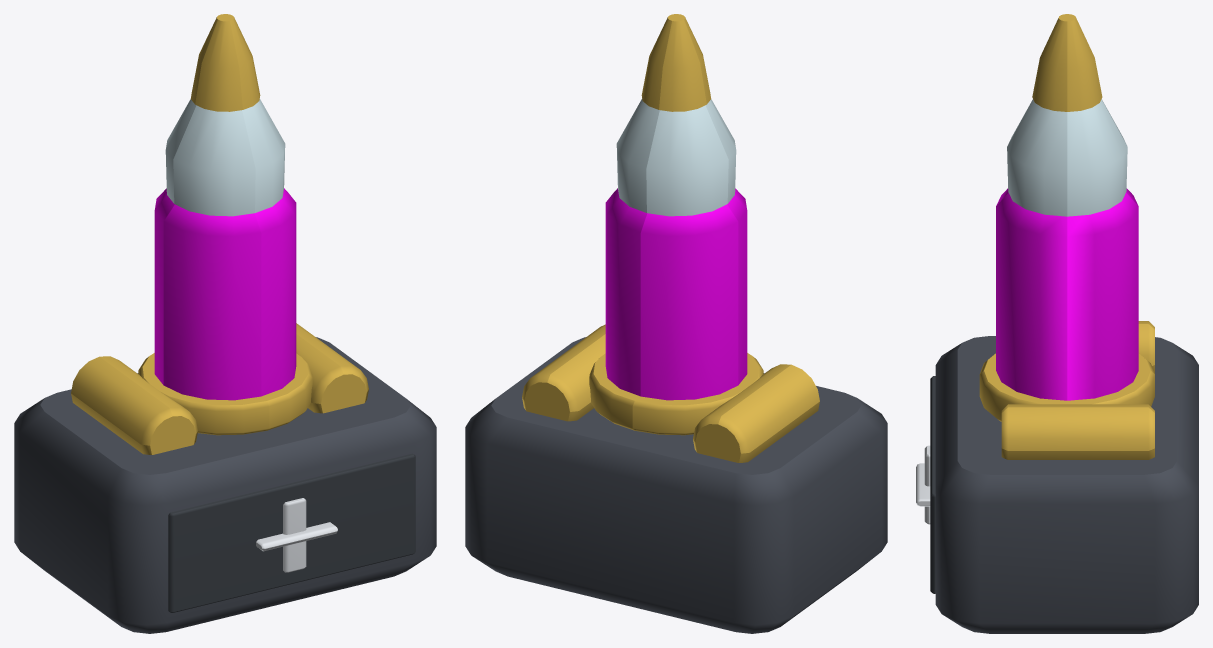
The model's file is objet_science_combat.glb.
3 renders of one model, left to right at view 1: azimuth 30°, elevation 25°; view 2: azimuth 150°, elevation 25°; view 3: azimuth 270°, elevation 25°, orthographic.
Visible parts, largest first — view 1: science_metal_sci_sombre.010, science_teinte.012, science_teinte_sombre.002, science_laiton.004, science_verre_flacon.010, science_blanc.004; view 2: science_metal_sci_sombre.010, science_teinte.012, science_laiton.004, science_verre_flacon.010; view 3: science_metal_sci_sombre.010, science_teinte.012, science_laiton.004, science_verre_flacon.010, science_teinte_sombre.002, science_blanc.004.
Part boxes in pixels (box(x1,y1,x2,y2)): science_metal_sci_sombre.010: box(14, 337, 436, 633); science_teinte.012: box(154, 188, 296, 400); science_teinte_sombre.002: box(168, 453, 415, 612); science_laiton.004: box(71, 14, 368, 454); science_verre_flacon.010: box(165, 98, 285, 216); science_blanc.004: box(256, 498, 337, 572); science_metal_sci_sombre.010: box(465, 337, 887, 633); science_teinte.012: box(605, 188, 747, 400); science_laiton.004: box(522, 14, 819, 462); science_verre_flacon.010: box(616, 98, 736, 216); science_metal_sci_sombre.010: box(935, 336, 1198, 633); science_teinte.012: box(996, 188, 1138, 400); science_laiton.004: box(979, 14, 1154, 459); science_verre_flacon.010: box(1007, 99, 1127, 216); science_teinte_sombre.002: box(930, 376, 935, 593); science_blanc.004: box(916, 445, 930, 524).
Size of the model in its own units: 0.17 by 0.275 by 0.129.
